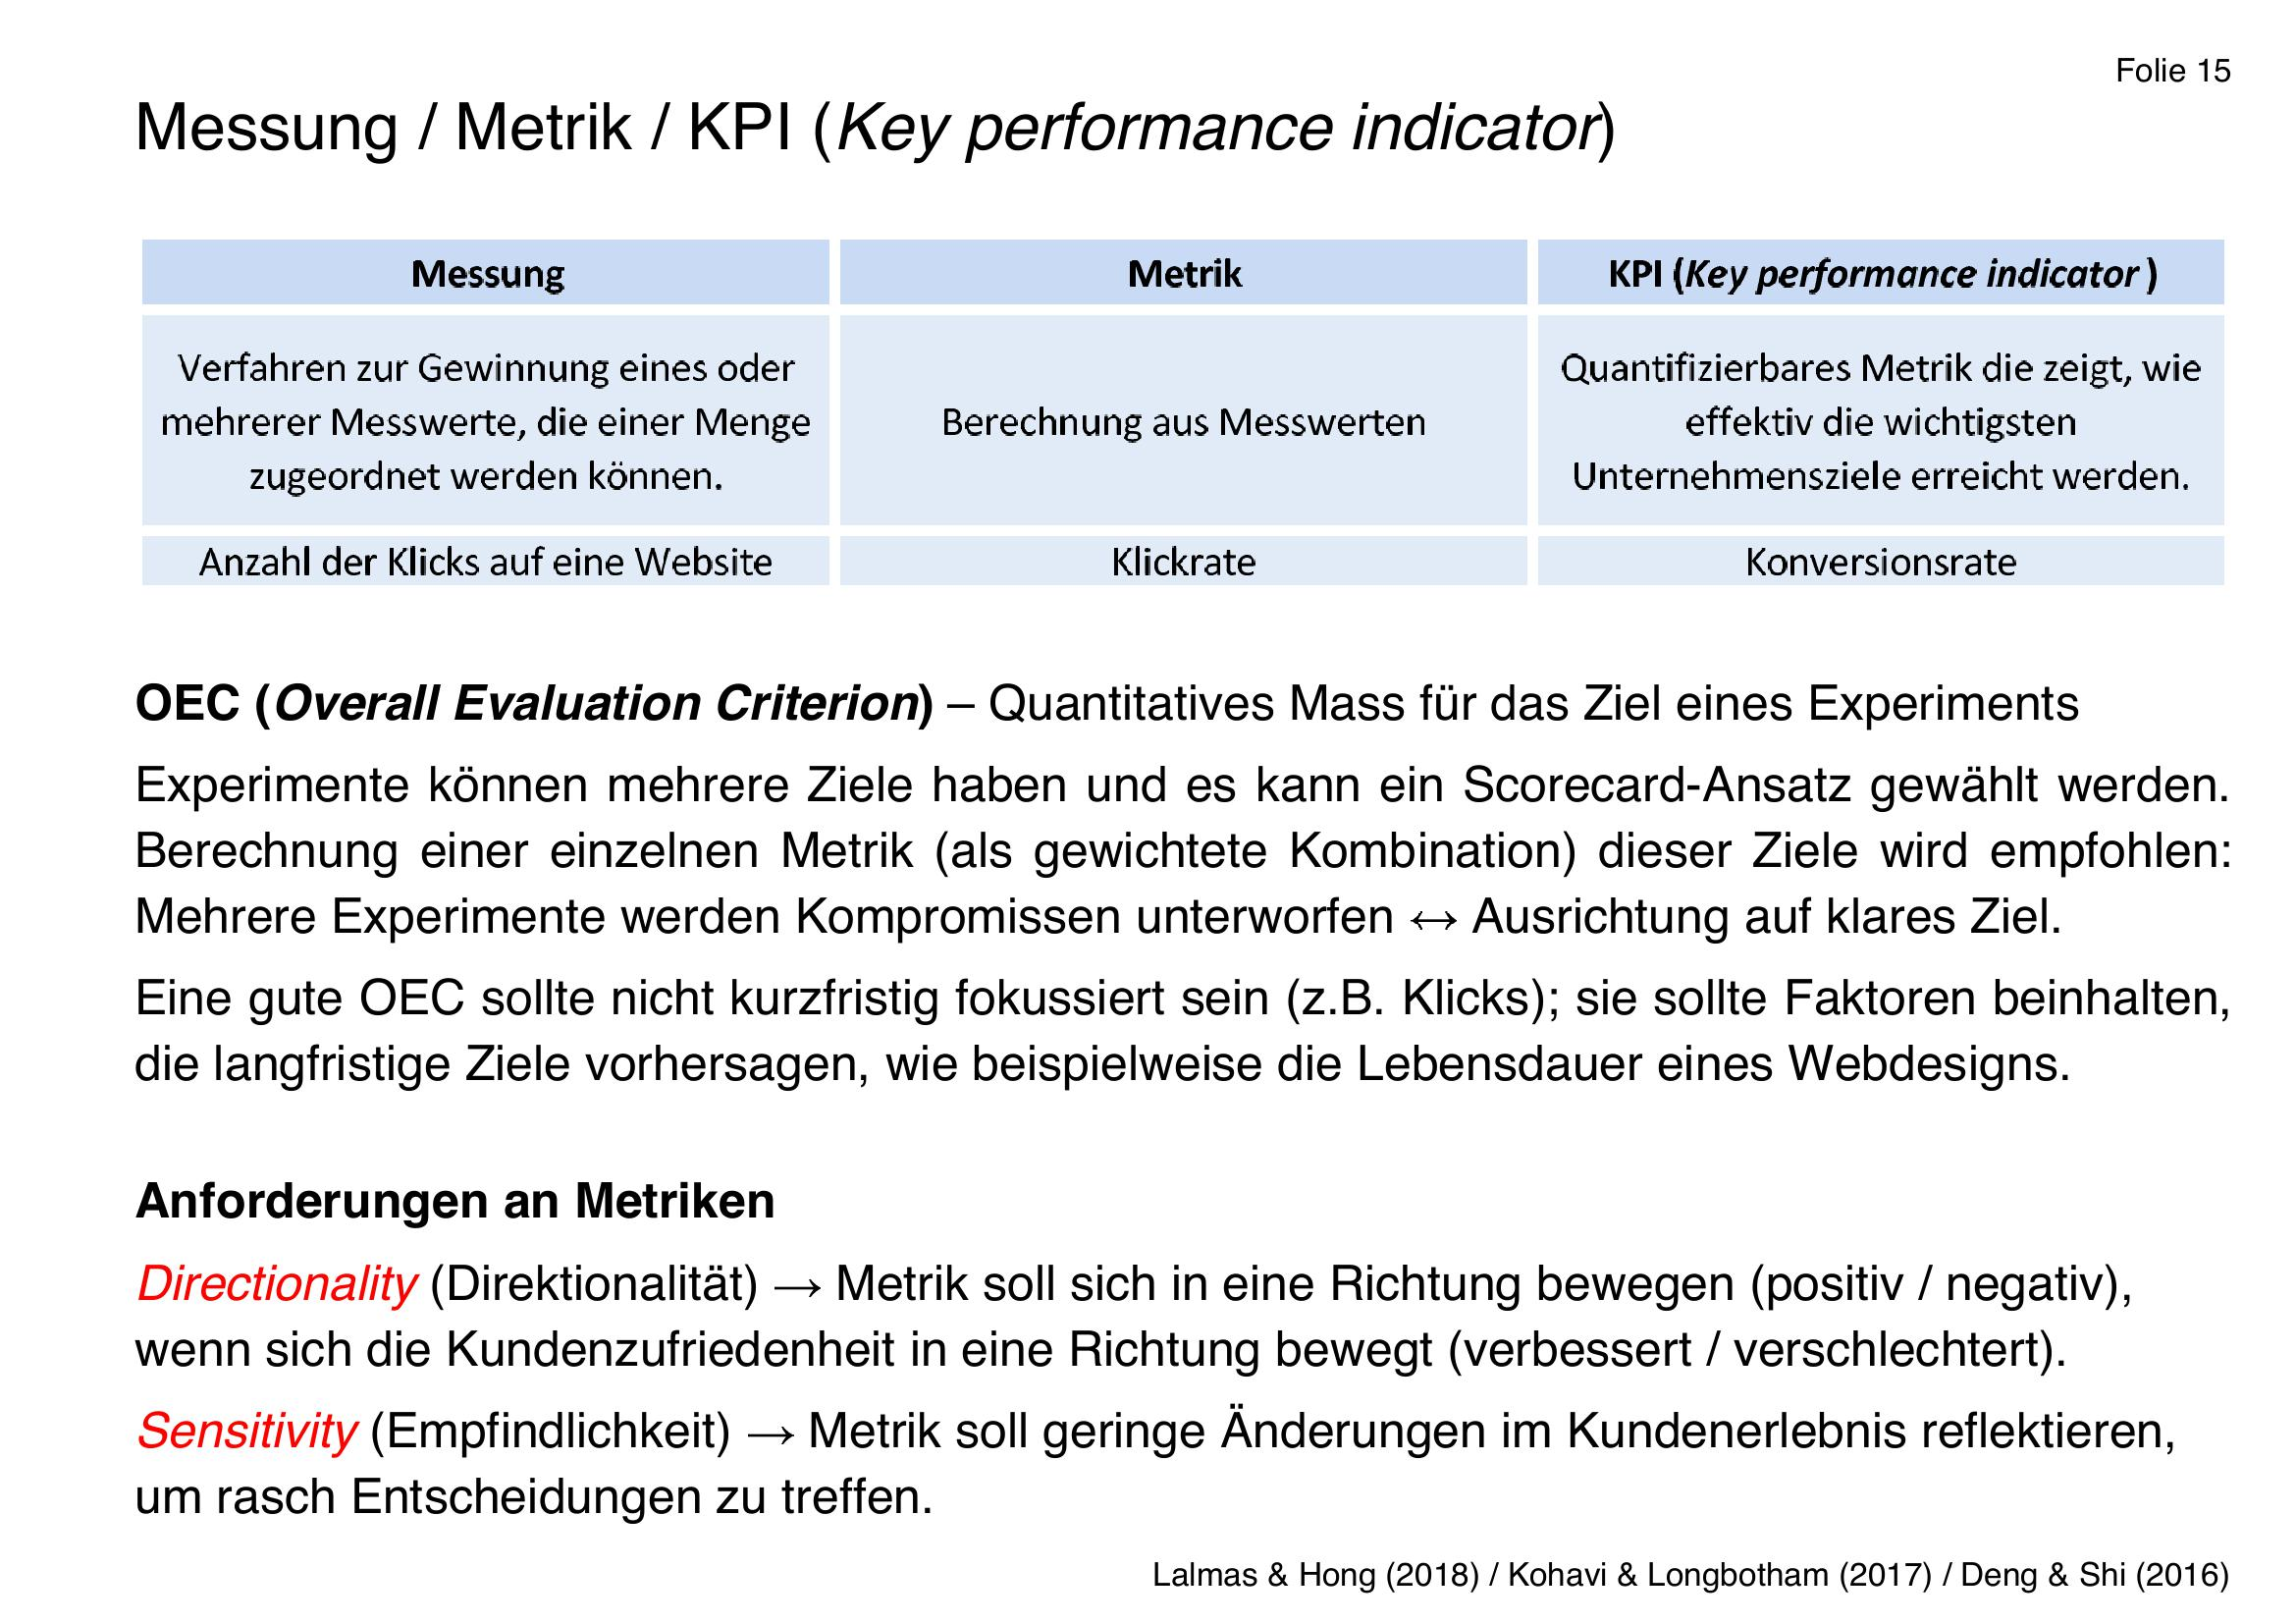Title: (58, 49, 1652, 202)
